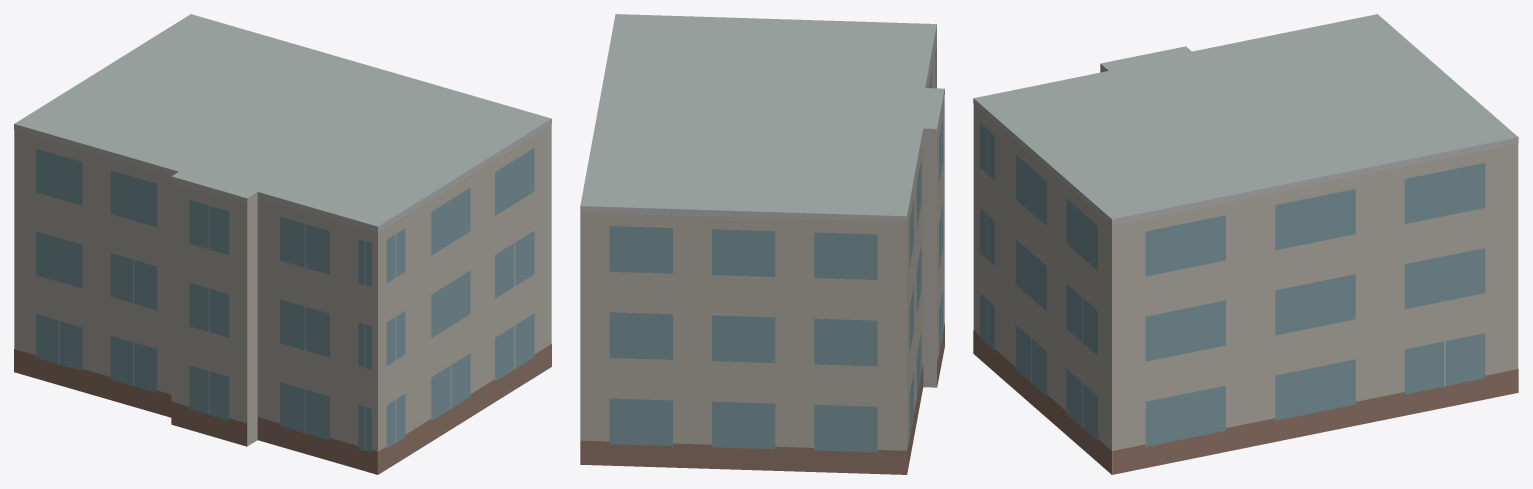
Rendered from survey-upis-32907061.glb.
3 views of the same model, side by side, from view 1: azimuth 30°, elevation 25°; view 2: azimuth 150°, elevation 25°; view 3: azimuth 270°, elevation 25° (orthographic). The views are drawn at different scales.
Parts seen in each view (by area): view 1: survey-upis-32907061.tmp; view 2: survey-upis-32907061.tmp; view 3: survey-upis-32907061.tmp.
Part boxes in pixels (<box>): survey-upis-32907061.tmp: <box>14,14,551,474</box>; survey-upis-32907061.tmp: <box>580,14,944,474</box>; survey-upis-32907061.tmp: <box>973,14,1518,474</box>.
Bounding box in the file's own units: 17.59 × 10.2 × 19.72.
